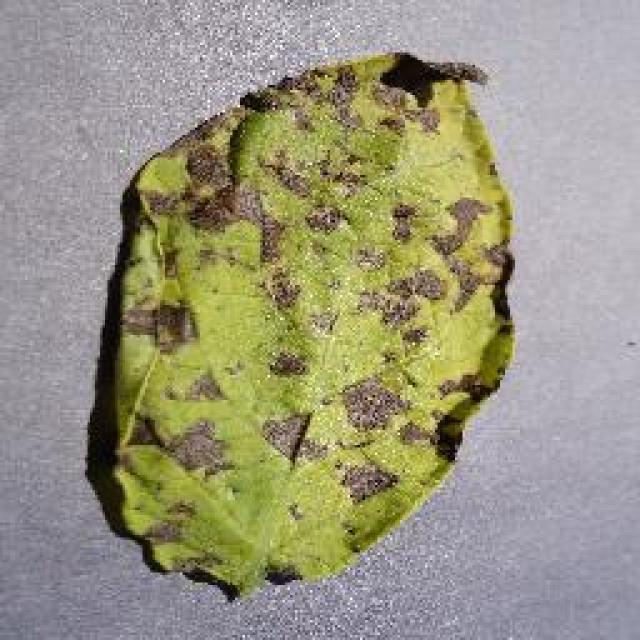early_blight: (88, 48, 520, 602)
